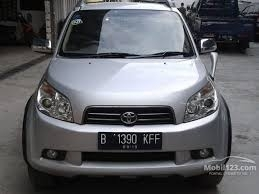plate: (98, 131, 162, 149)
